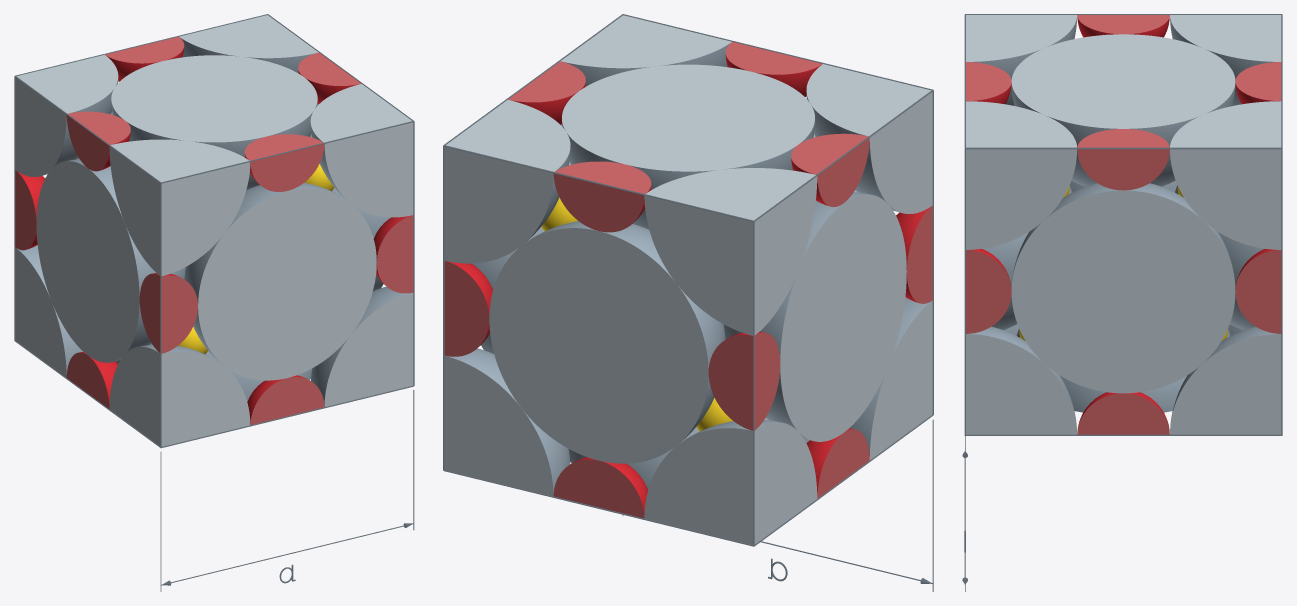
The model's file is kfz-schnittmodell.glb.
3 renders of one model, left to right at view 1: azimuth 30°, elevation 25°; view 2: azimuth 150°, elevation 25°; view 3: azimuth 270°, elevation 25°, orthographic. The views are drawn at different scales.
Parts seen in each view (by area): view 1: atom_flaeche_z1, atom_flaeche_x0, atom_flaeche_y1, atom_ecke_011, atom_ecke_001, atom_ecke_111, atom_ecke_010, atom_ecke_101, atom_ecke_000, atom_ecke_110, zellkanten, oktaeder_kante_y01 (+9 smaller); view 2: atom_flaeche_z0, atom_flaeche_x0, atom_flaeche_y1, atom_ecke_010, atom_ecke_000, atom_ecke_110, atom_ecke_011, atom_ecke_100, atom_ecke_001, atom_ecke_111, oktaeder_kante_y00, oktaeder_kante_x10 (+11 smaller); view 3: atom_flaeche_x1, atom_flaeche_y1, atom_ecke_110, atom_ecke_111, atom_ecke_100, atom_ecke_101, atom_ecke_010, atom_ecke_011, oktaeder_kante_z11, zellkanten, oktaeder_kante_z10, oktaeder_kante_y10 (+7 smaller).
Boxes of the visible parts, x1,y1,x2,y2 form: atom_flaeche_z1: [184, 182, 376, 380]; atom_flaeche_x0: [36, 159, 185, 362]; atom_flaeche_y1: [111, 55, 317, 189]; atom_ecke_011: [109, 139, 250, 276]; atom_ecke_001: [109, 345, 250, 446]; atom_ecke_111: [310, 84, 413, 217]; atom_ecke_010: [15, 54, 118, 176]; atom_ecke_101: [310, 286, 413, 406]; atom_ecke_000: [15, 245, 82, 377]; atom_ecke_110: [179, 15, 318, 73]; zellkanten: [14, 14, 414, 448]; oktaeder_kante_y01: [139, 273, 197, 353]; atom_flaeche_z0: [489, 221, 725, 463]; atom_flaeche_x0: [723, 192, 906, 441]; atom_flaeche_y1: [562, 64, 814, 229]; atom_ecke_010: [644, 168, 817, 335]; atom_ecke_000: [644, 420, 817, 544]; atom_ecke_110: [444, 99, 570, 263]; atom_ecke_011: [806, 64, 932, 213]; atom_ecke_100: [444, 348, 570, 496]; atom_ecke_001: [849, 297, 932, 460]; atom_ecke_111: [560, 15, 731, 86]; oktaeder_kante_y00: [708, 331, 780, 430]; oktaeder_kante_x10: [553, 161, 651, 232]; atom_flaeche_x1: [1011, 183, 1235, 393]; atom_flaeche_y1: [1011, 34, 1235, 186]; atom_ecke_110: [1170, 101, 1281, 249]; atom_ecke_111: [966, 101, 1077, 249]; atom_ecke_100: [1170, 326, 1281, 434]; atom_ecke_101: [966, 326, 1077, 434]; atom_ecke_010: [1170, 15, 1281, 105]; atom_ecke_011: [966, 15, 1077, 105]; oktaeder_kante_z11: [1077, 129, 1169, 190]; zellkanten: [964, 14, 1282, 435]; oktaeder_kante_z10: [1077, 392, 1169, 434]; oktaeder_kante_y10: [1235, 249, 1281, 333].
Size of the model in its own units: 1 by 1.63 by 1.01.
